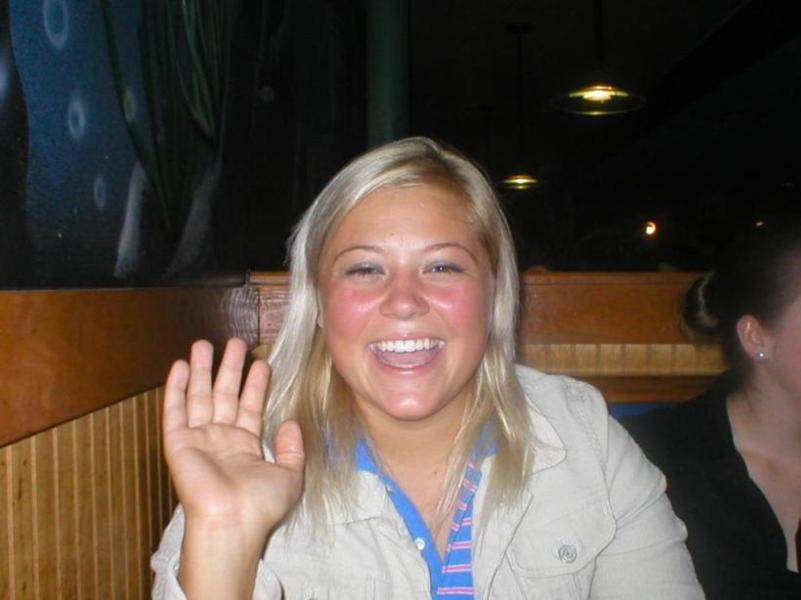person: (152, 137, 713, 600)
